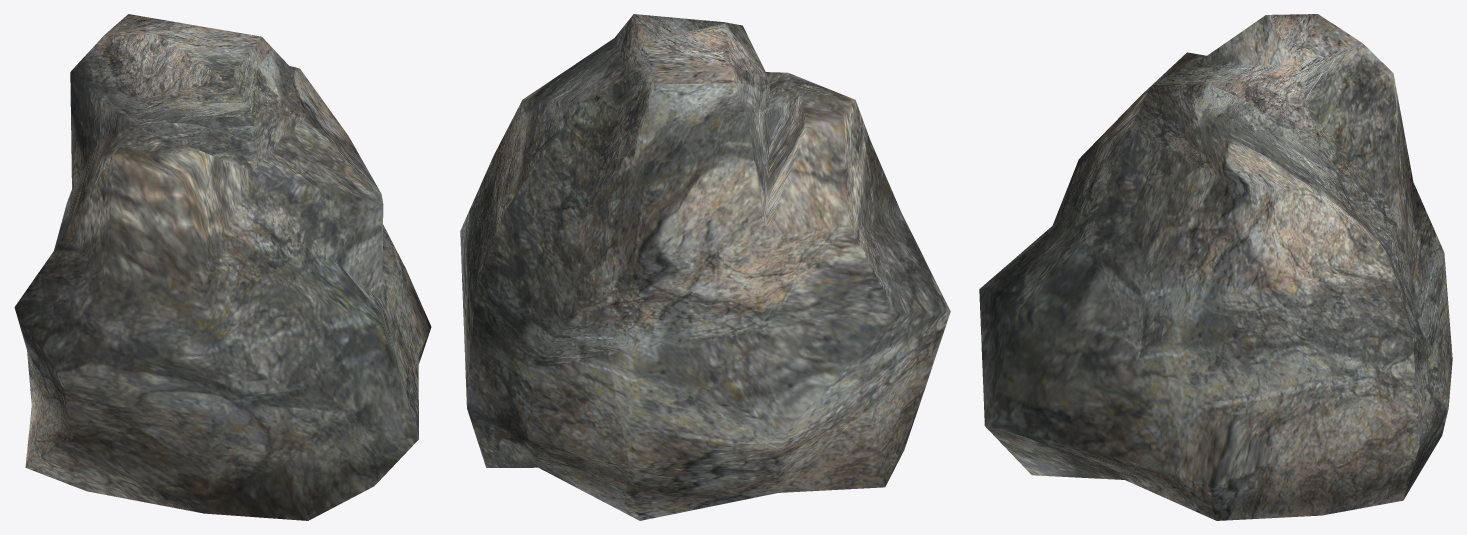
Rendered from wall.fbx.
The picture shows the model from 3 angles, left to right: view 1: azimuth 30°, elevation 25°; view 2: azimuth 150°, elevation 25°; view 3: azimuth 270°, elevation 25°; orthographic projection. The views are drawn at different scales.
Parts seen in each view (by area): view 1: wall; view 2: wall; view 3: wall.
Part boxes in pixels (<box>): wall: <box>14,14,431,520</box>; wall: <box>460,14,950,520</box>; wall: <box>979,14,1452,520</box>.
Bounding box in the file's own units: 163 × 163 × 162.
